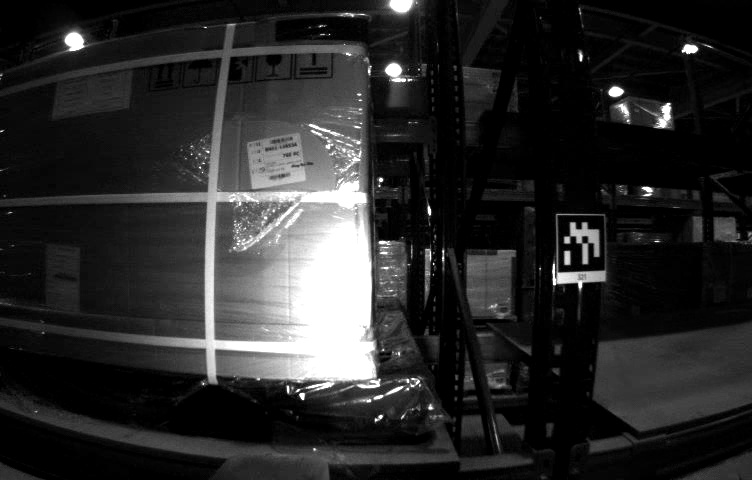True Barcode: (243, 132, 306, 194)
